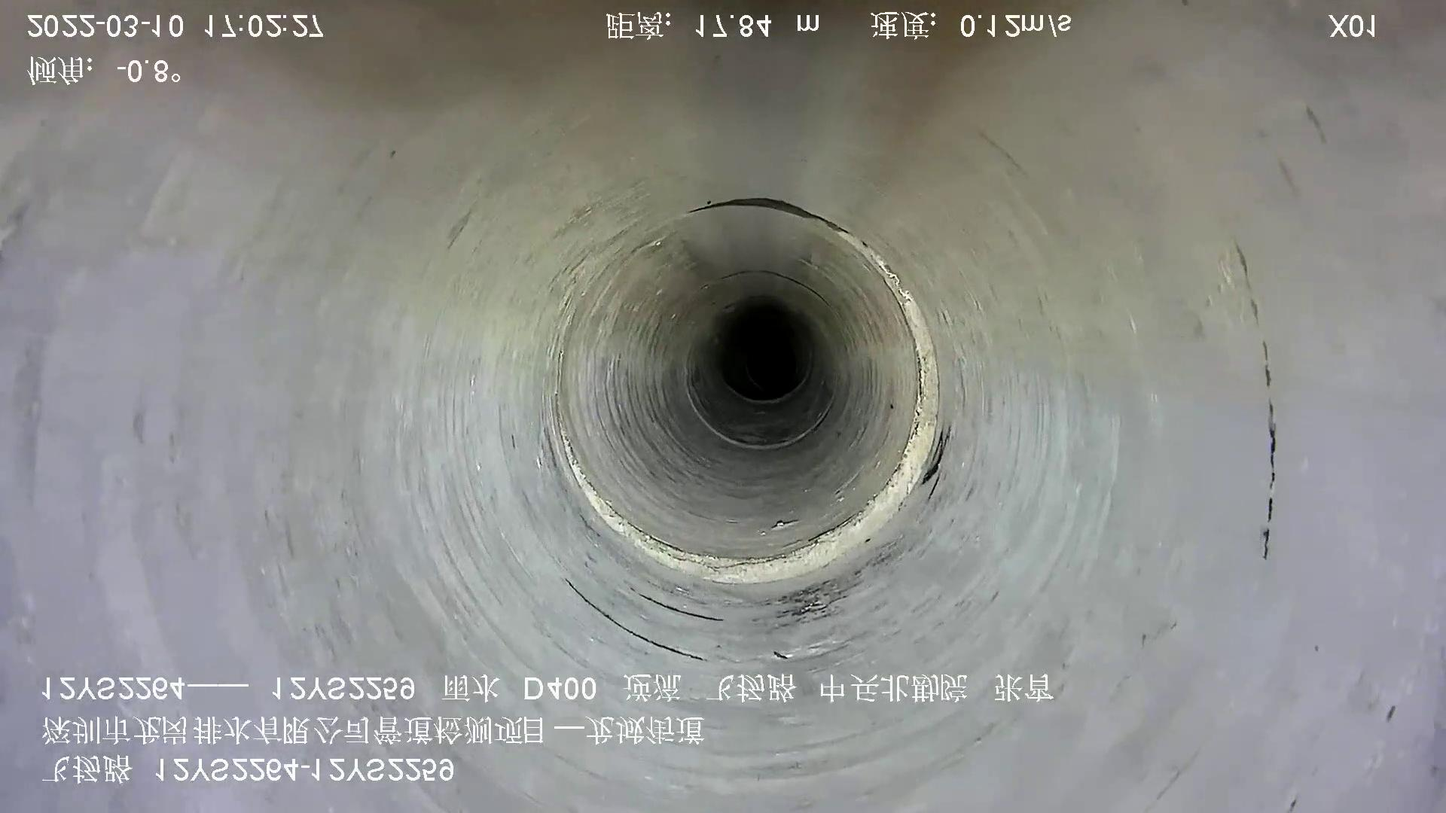CKTJ: (559, 208, 938, 584), (684, 363, 839, 452), (718, 352, 815, 405)
